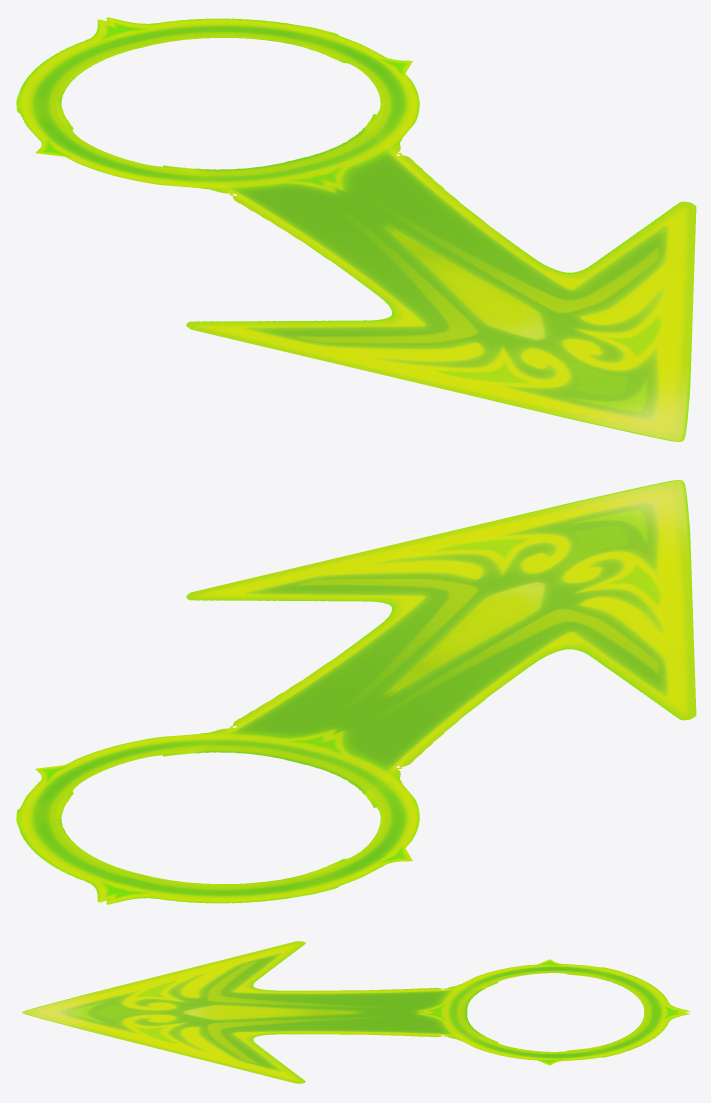
Rendered from jiantou.FBX.
3 renders of one model, top to bottom at view 1: azimuth 30°, elevation 25°; view 2: azimuth 150°, elevation 25°; view 3: azimuth 270°, elevation 25°, orthographic. The views are drawn at different scales.
Parts seen in each view (by area): view 1: Plane01; view 2: Plane01; view 3: Plane01.
Part boxes in pixels (<box>): Plane01: <box>16,17,696,441</box>; Plane01: <box>16,480,696,904</box>; Plane01: <box>22,941,689,1083</box>.
Size of the model in its own units: 57.27 by 108 by 0.
1 material, 1 textured.
